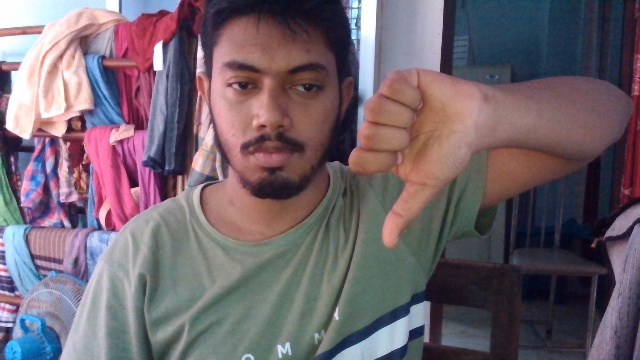no: (355, 50, 481, 252)
